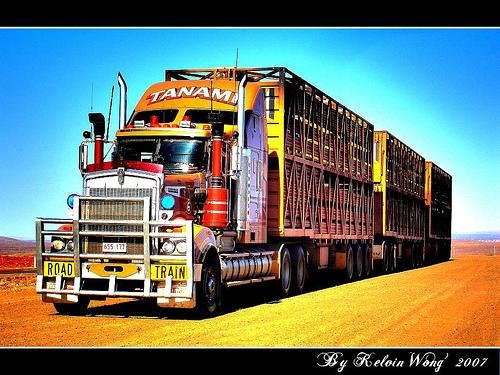truck: (32, 65, 453, 321)
